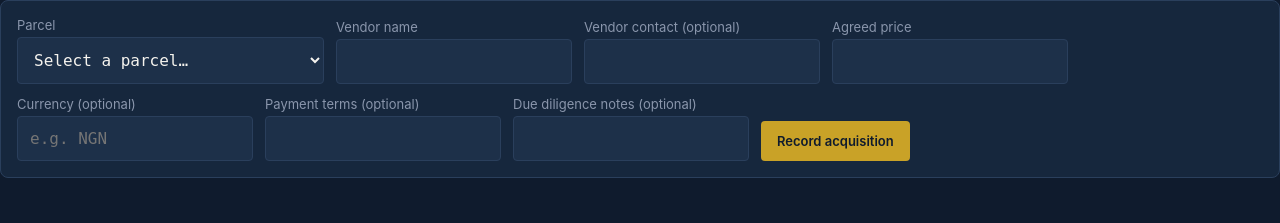
Test case: RecordAcquisitionForm › shows the action-returned error message and does not reset the fields on failure
This screenshot has width=1280, height=223.
Select "LP-001 — Riverside Parcel A" in the dropdown labelled "Parcel": (170, 60) [17,37,324,84]
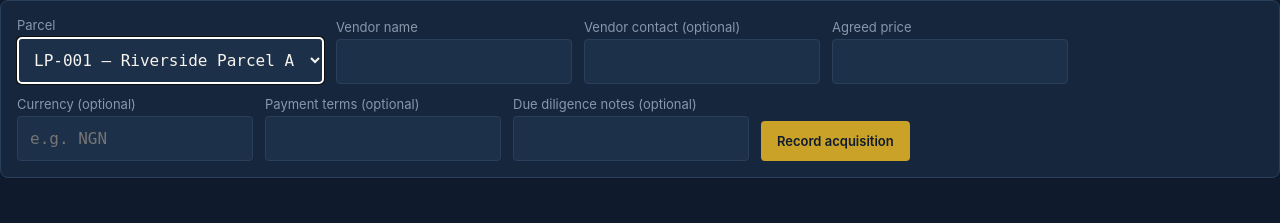
In the field labelled "Vendor name": (454, 62) [336,39,572,84], type "Acme Land Holdings"
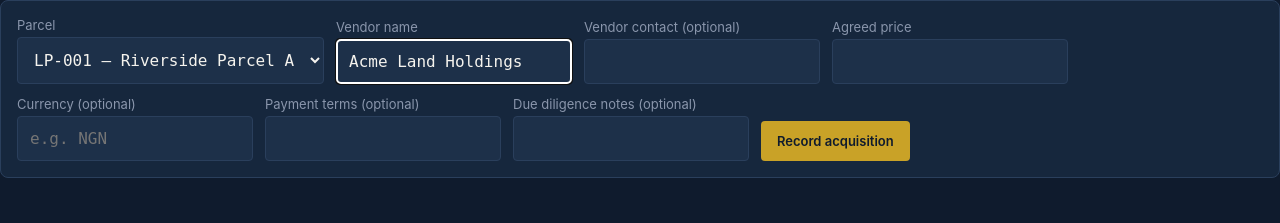
In the number field labelled "Agreed price": (950, 62) [832,39,1068,84], type "5000000"
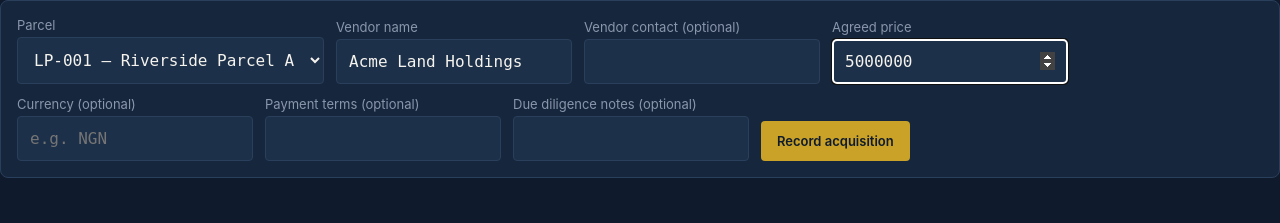
Click the button "Record acquisition": (835, 141) [761,121,910,161]
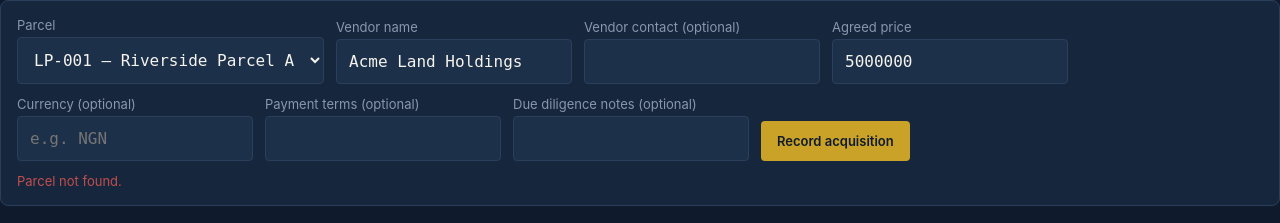
Now the text "Parcel not found." is shown, box [17,173,122,189]
